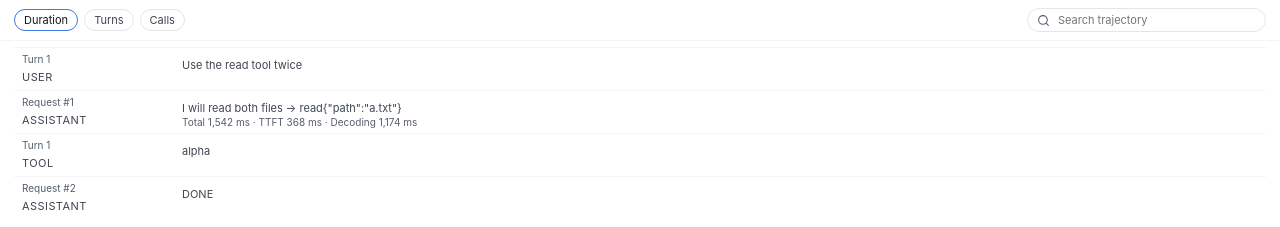
it: TrajectoryPane › filters records from the trajectory search box
Type "alpha" into the search field labelled "Search trajectory" at [1156, 20], box [1056,12,1256,28]
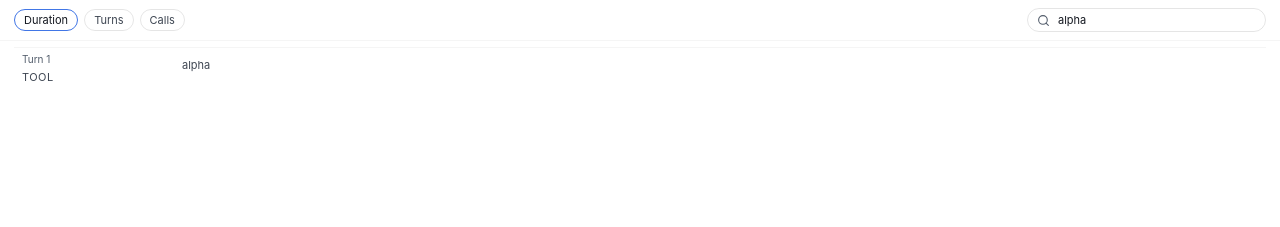
Expected: the text "alpha" is shown, [182,58,210,72]
Result: the number of rows is 1 at [14,48,1266,90]
Replace the text in the search field named "Search trajectory" with "zzz" at [1156, 20], box [1056,12,1256,28]
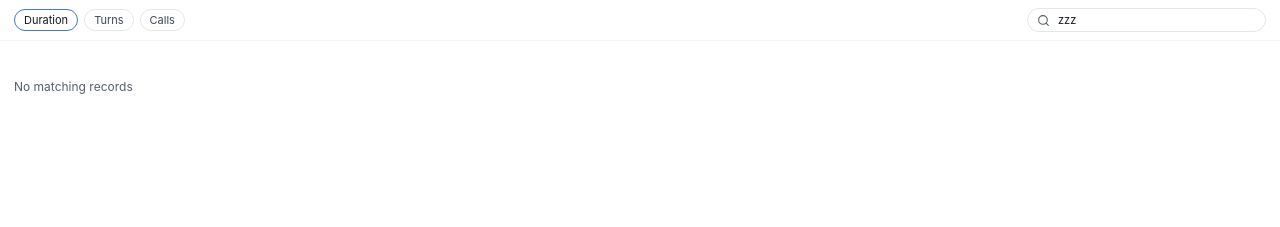
Result: no rows are shown
Result: the text "No matching records" is shown at [14,79,133,94]
